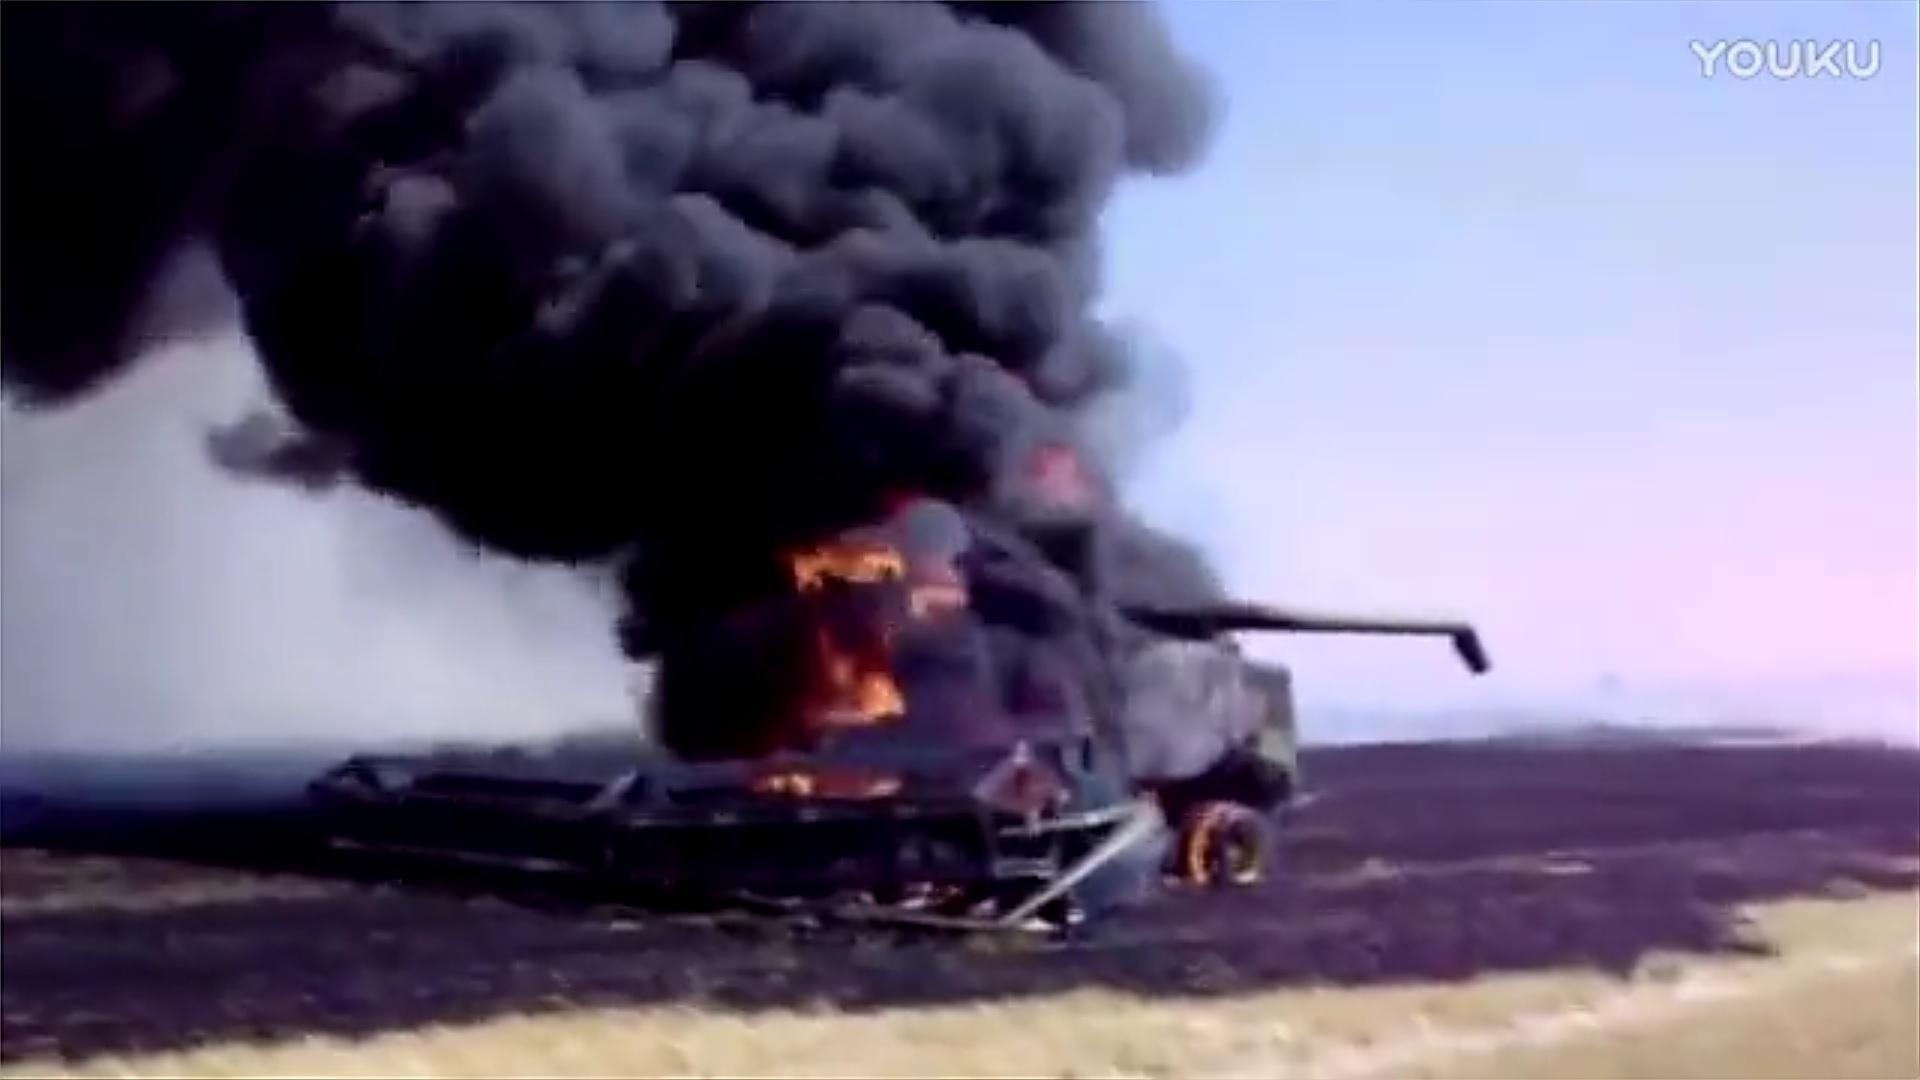fire: (765, 644, 913, 800), (795, 534, 913, 585)
